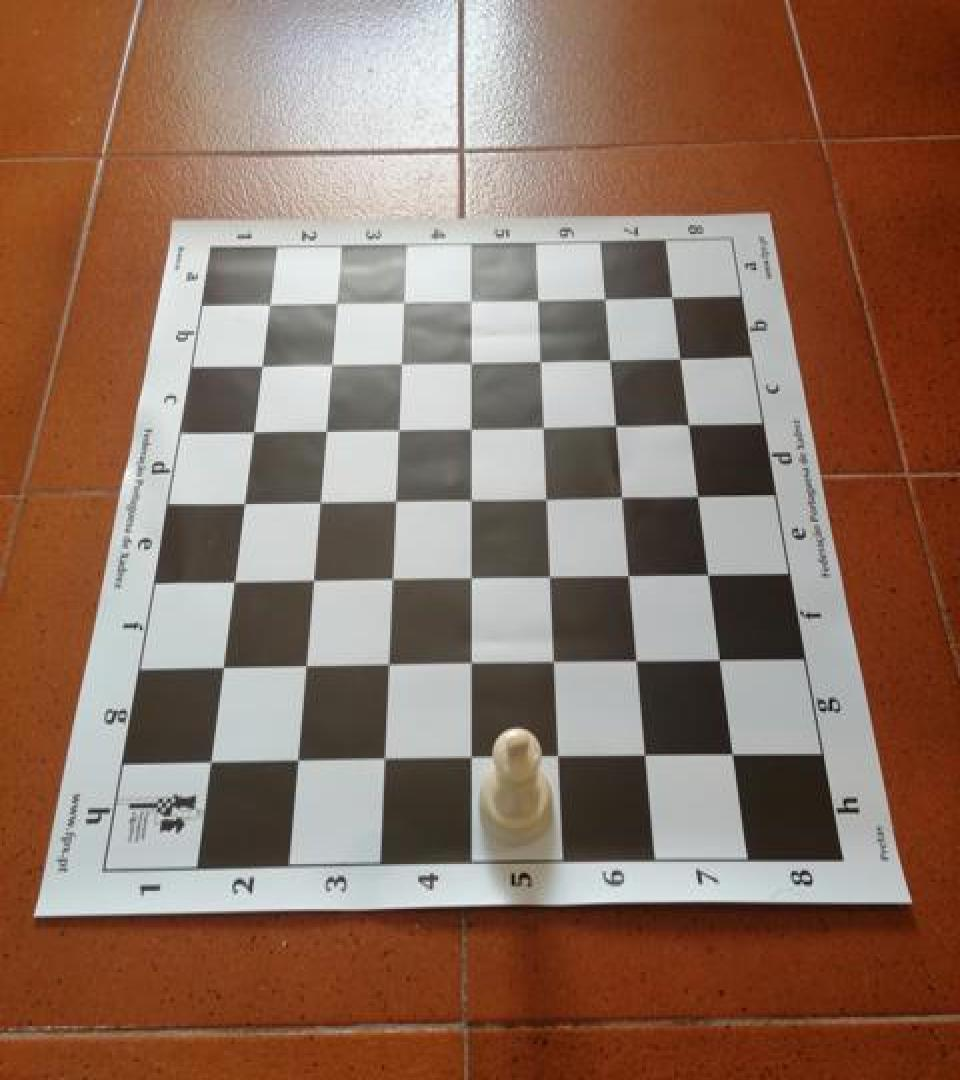xcorner: (661, 280, 691, 314), (593, 281, 623, 315), (526, 282, 556, 316), (458, 282, 488, 316), (323, 284, 353, 318), (255, 286, 285, 320), (669, 342, 699, 376), (598, 343, 628, 377), (528, 344, 558, 378), (458, 344, 488, 378), (388, 345, 418, 379), (317, 346, 347, 380), (247, 348, 277, 382), (678, 410, 708, 444), (604, 410, 634, 444), (531, 410, 561, 444), (458, 412, 488, 446), (385, 412, 415, 446), (312, 413, 342, 447), (239, 414, 269, 448), (687, 482, 717, 516), (458, 484, 488, 518), (381, 485, 411, 519), (305, 486, 335, 520), (229, 486, 259, 520), (697, 560, 727, 594), (617, 561, 647, 595), (537, 562, 567, 596), (458, 562, 488, 596), (378, 564, 408, 598), (219, 566, 249, 600), (708, 647, 738, 681), (625, 648, 655, 682), (541, 648, 571, 682), (458, 649, 488, 683), (374, 650, 404, 684), (291, 651, 321, 685), (208, 651, 238, 685), (720, 741, 750, 775), (633, 742, 663, 776), (545, 744, 575, 778), (458, 744, 488, 778), (370, 744, 400, 778), (283, 746, 313, 780), (196, 747, 226, 781), (390, 284, 420, 317), (610, 483, 640, 516), (534, 483, 564, 516), (298, 565, 328, 598)
